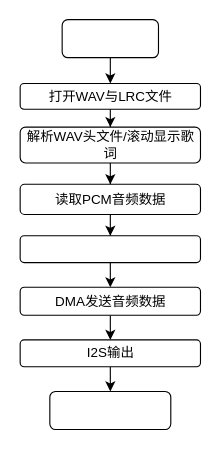
The diagram is 220 pixels wide and 449 high, and some of its shapes have lost their labels. The centre of each missing label's shape, as x and y in pixels:
"MAX98357驱动扬声器" goes at point 110,410.
"写入外部SRAM数据" goes at point 109,249.
"选择音频文件" goes at point 109,38.
